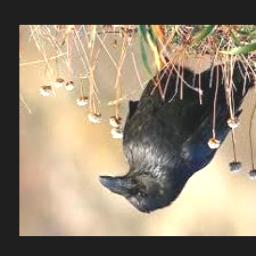Crow: (99, 59, 255, 215)
